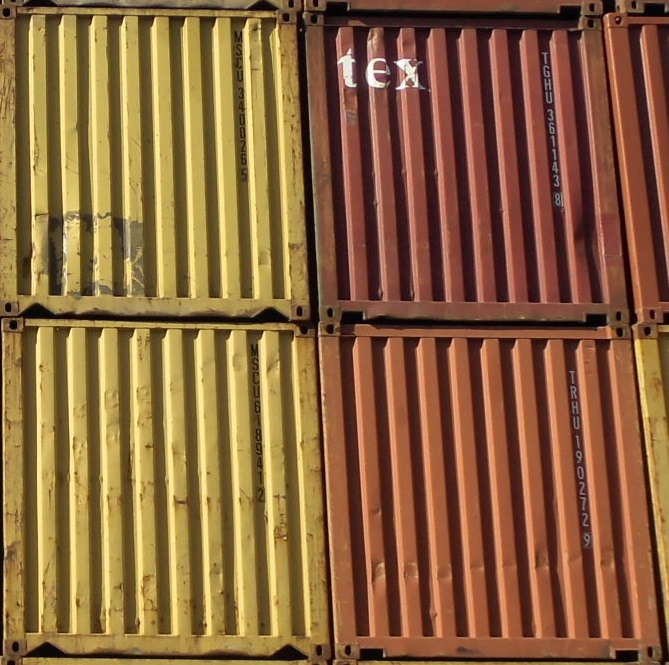container_no_door: (318, 316, 663, 662), (2, 314, 331, 665), (1, 19, 304, 314), (314, 16, 613, 313)
